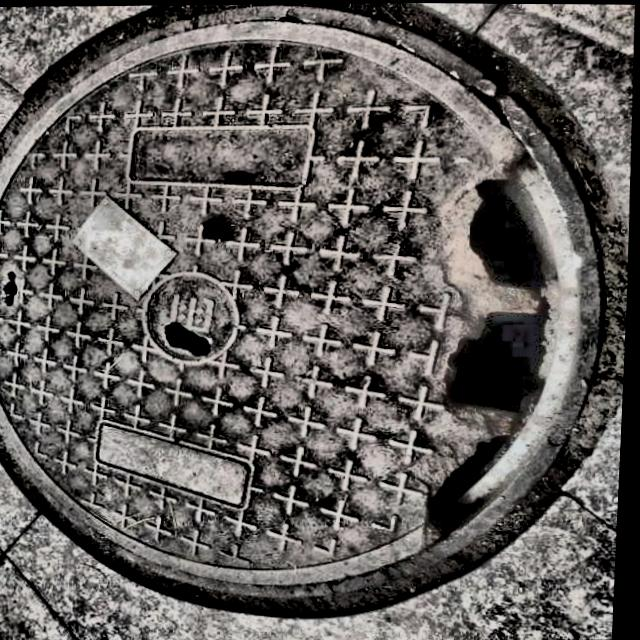open_manhole: (0, 50, 559, 536)
